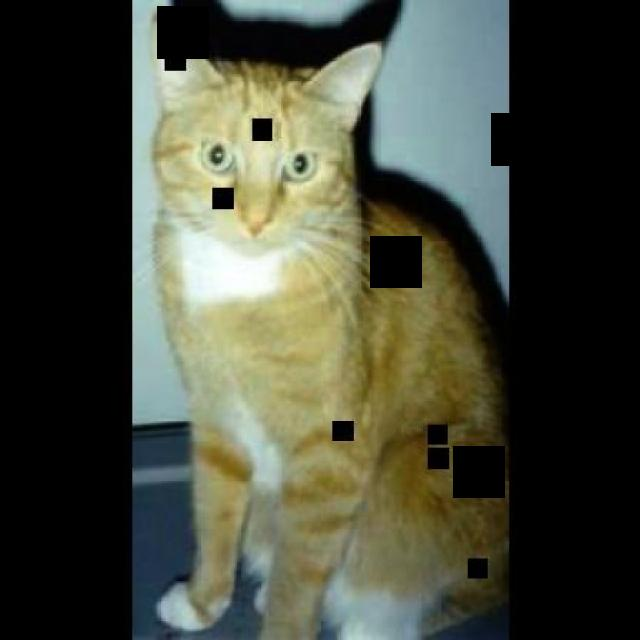unauthorized: (146, 7, 509, 638)
